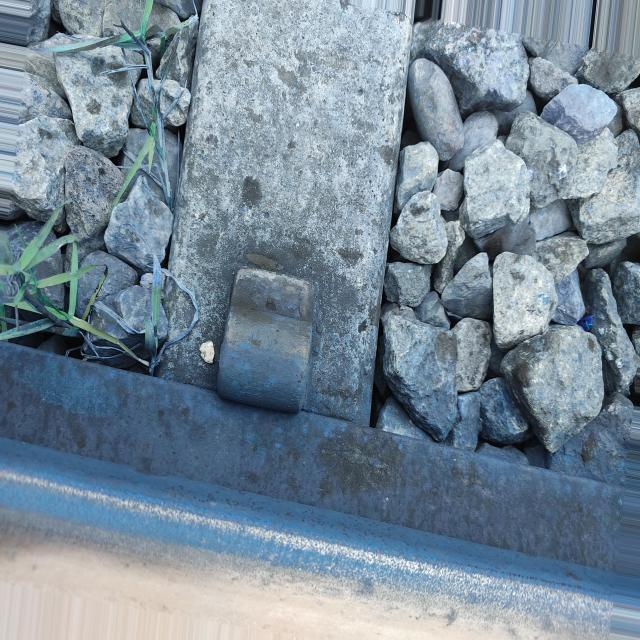Missing Fastener: (210, 260, 368, 444)
